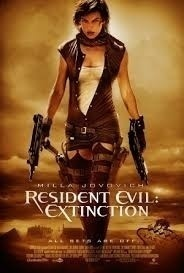pistol: (23, 113, 51, 182), (125, 122, 153, 185)
